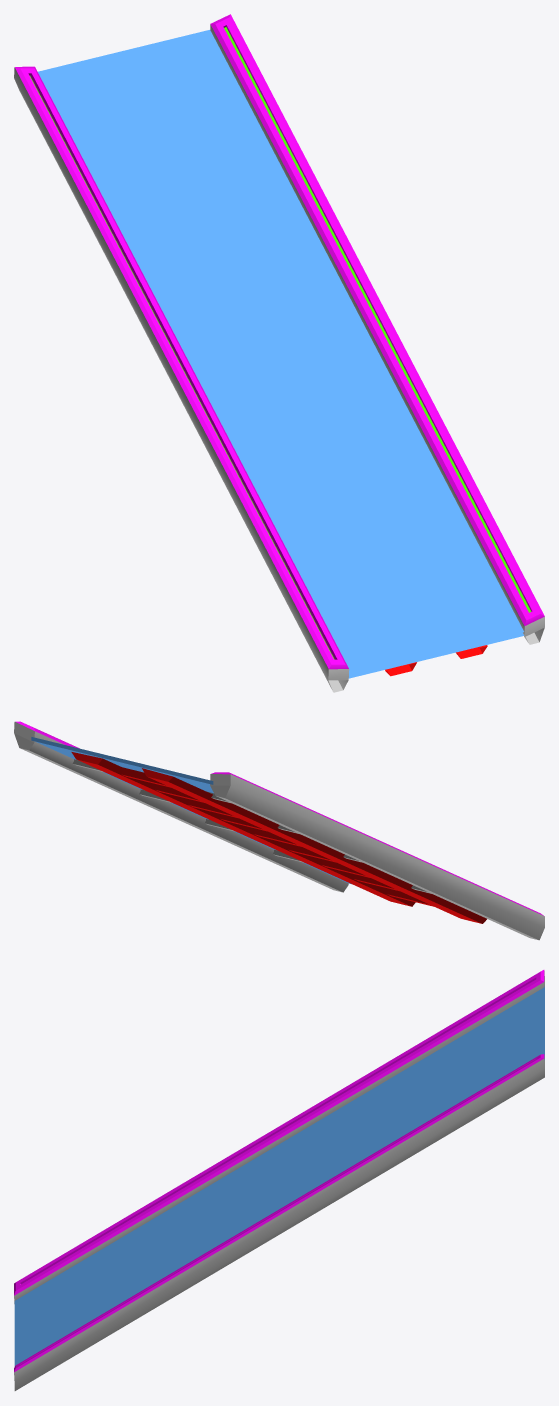
Rendered from Ramp.fbx.
3 views of the same model, one above another, from view 1: azimuth 30°, elevation 25°; view 2: azimuth 150°, elevation 25°; view 3: azimuth 270°, elevation 25° (orthographic). The views are drawn at different scales.
Visible parts, largest first — view 1: Plane001; view 2: Plane001; view 3: Plane001.
Part boxes in pixels (x1=…): Plane001: x1=14, y1=14, x2=544, y2=692; Plane001: x1=14, y1=721, x2=544, y2=940; Plane001: x1=14, y1=970, x2=544, y2=1390.
Bounding box in the file's own units: 2439 × 4276 × 6138.
